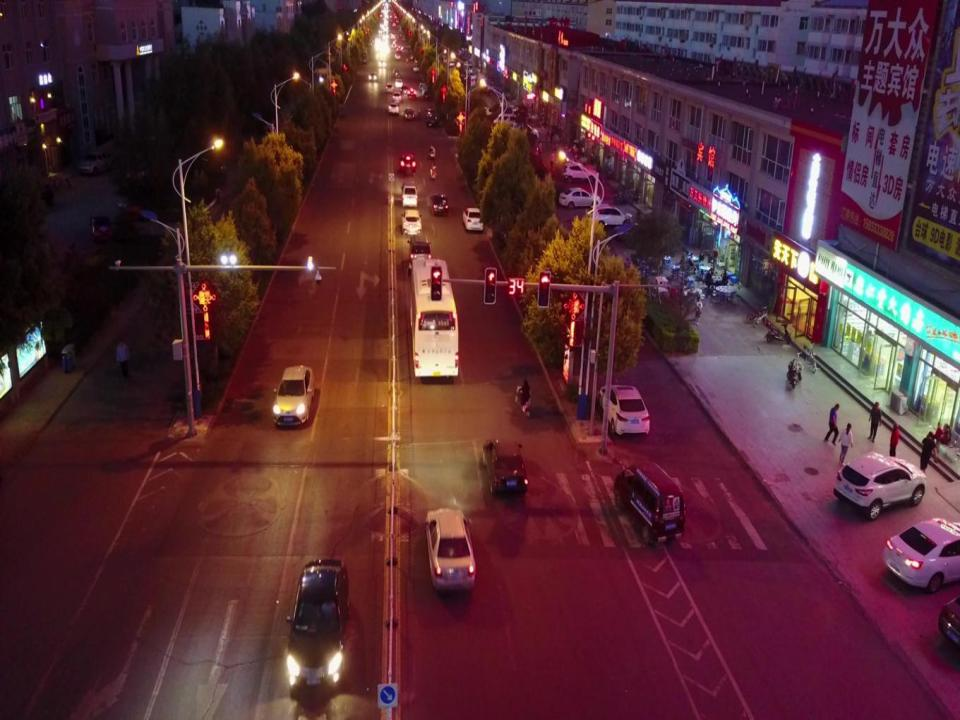bus: (408, 258, 459, 383)
car: (286, 558, 349, 694), (835, 454, 928, 518), (883, 516, 960, 593), (424, 505, 478, 592), (598, 385, 650, 434), (486, 434, 530, 491), (273, 365, 314, 424), (587, 204, 633, 229), (558, 187, 601, 208), (79, 151, 117, 173), (562, 160, 598, 183), (399, 154, 416, 174), (426, 108, 437, 127), (403, 108, 414, 120), (389, 102, 398, 114), (392, 91, 401, 103), (407, 87, 416, 98), (422, 89, 431, 99), (369, 72, 378, 80), (419, 82, 426, 92), (400, 86, 408, 94), (387, 83, 394, 92), (393, 69, 400, 77), (396, 79, 403, 86), (379, 60, 385, 67), (414, 64, 419, 71), (395, 53, 400, 59)
van: (614, 463, 686, 547), (407, 235, 432, 278), (402, 208, 422, 237), (462, 208, 482, 232), (400, 181, 417, 208), (493, 112, 516, 130), (512, 125, 539, 140), (432, 194, 448, 214)
